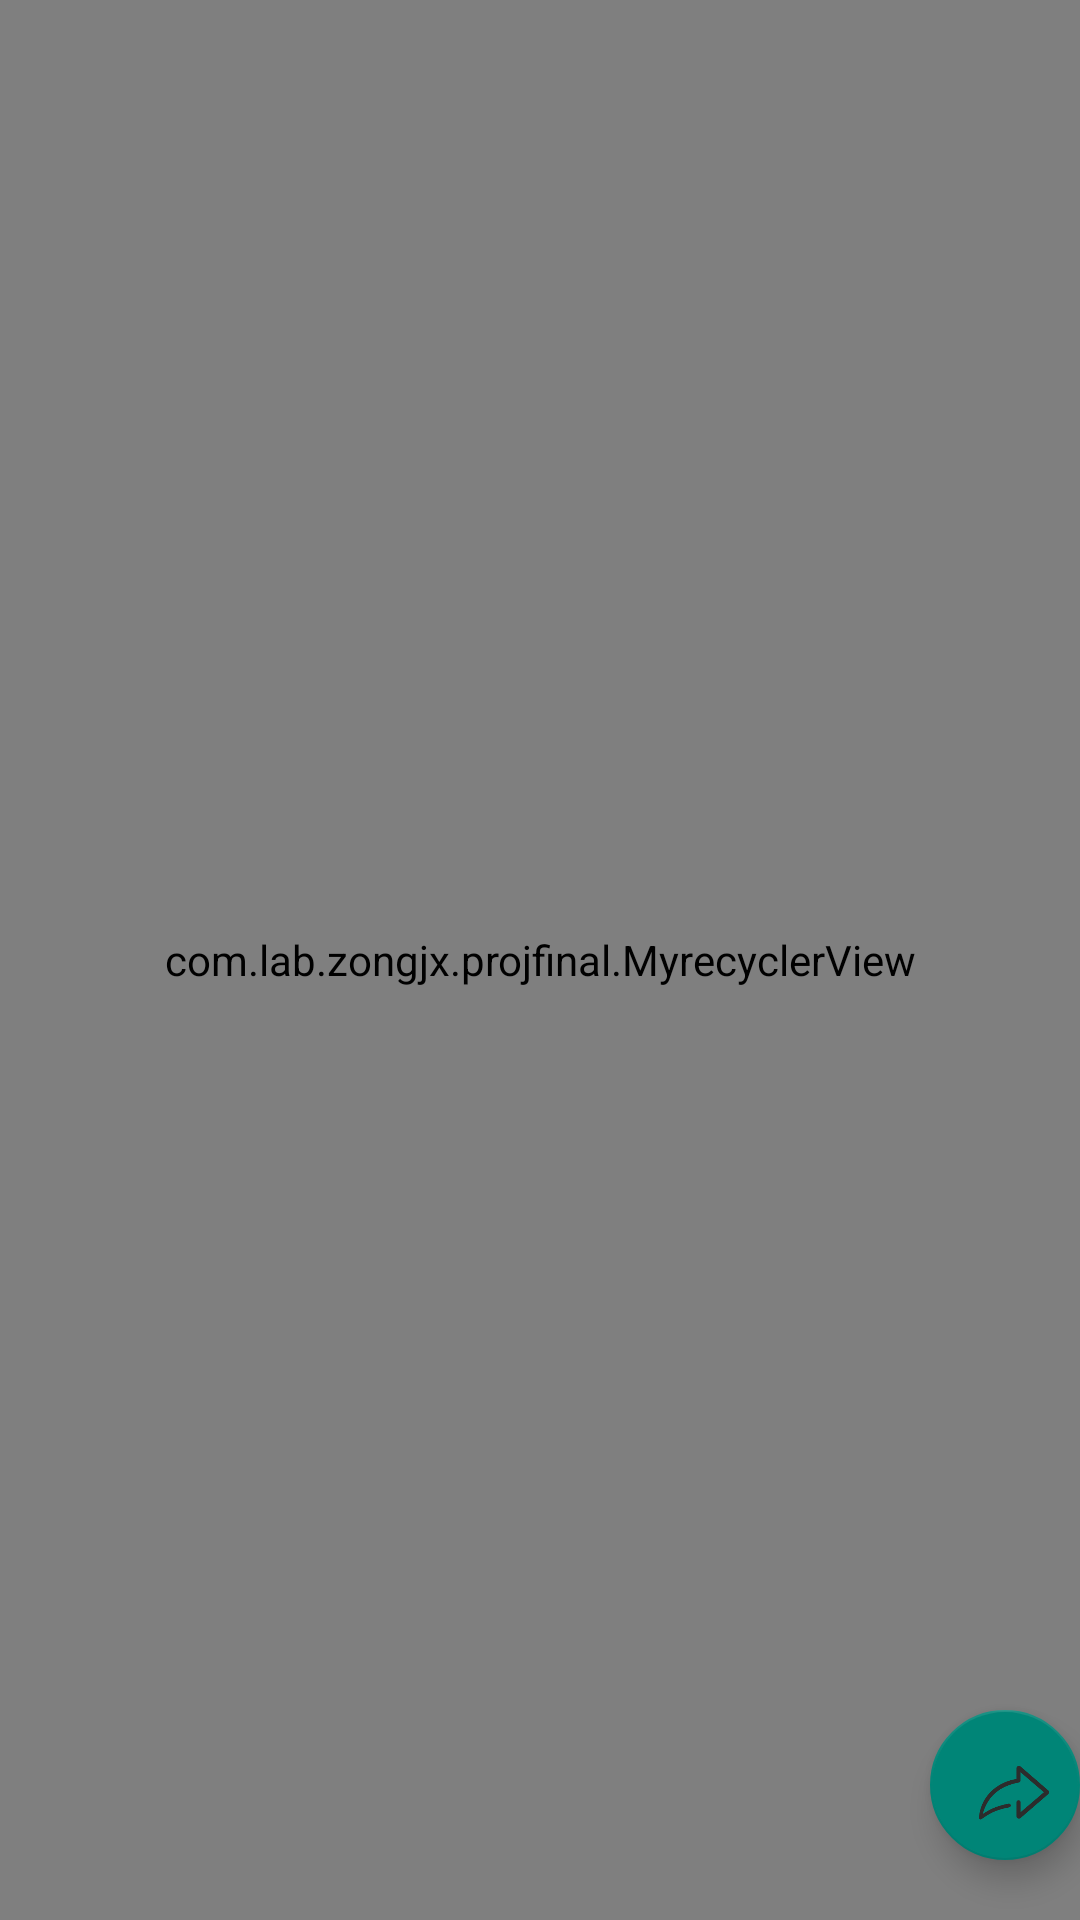

Where icons sit on this 1080×1920 app screen, as (x1, y1, x2, y2):
skip: (930, 1710, 1080, 1860)
